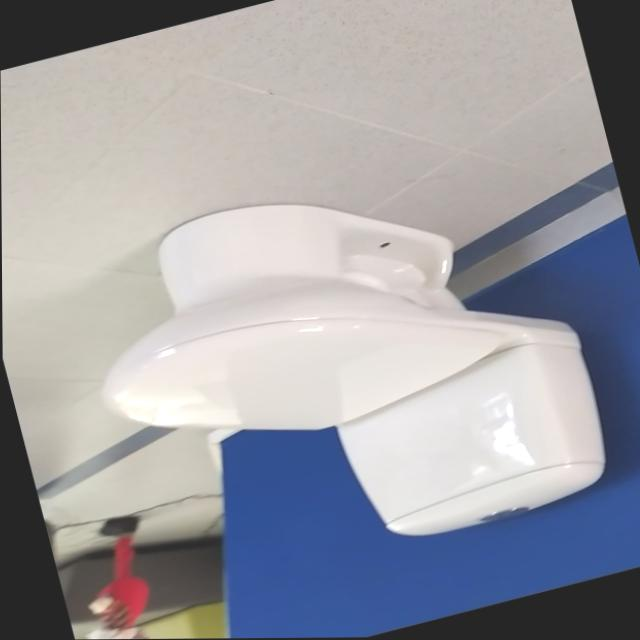toilet: (62, 131, 620, 610)
